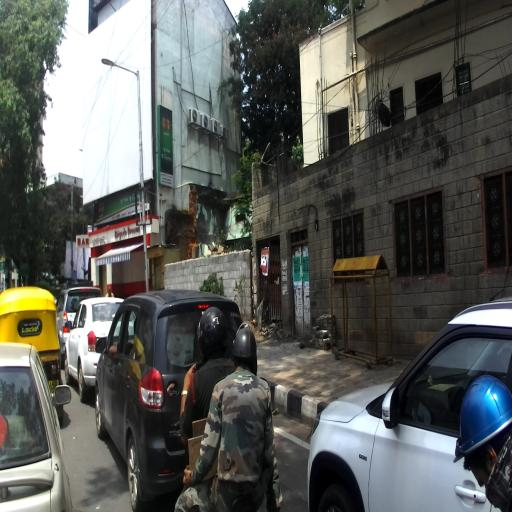street_light_0: (101, 59, 140, 79)
